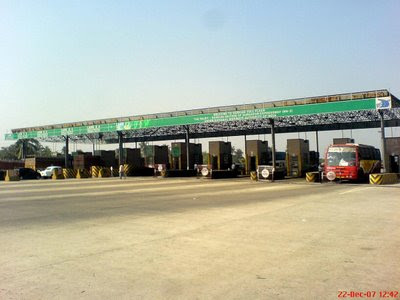toll plaza: (9, 95, 316, 181)
